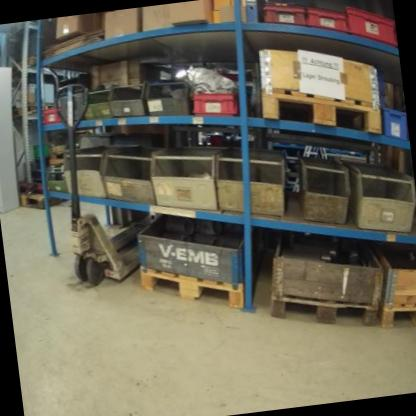pallet: (257, 72, 385, 149), (136, 252, 248, 322), (265, 279, 379, 341), (376, 294, 416, 333), (17, 186, 59, 212)
pallet_truck: (40, 74, 162, 295)
small_load_carrier: (344, 0, 398, 56), (187, 89, 240, 123), (303, 0, 348, 40), (260, 0, 308, 36), (377, 98, 409, 144), (40, 103, 67, 125)
